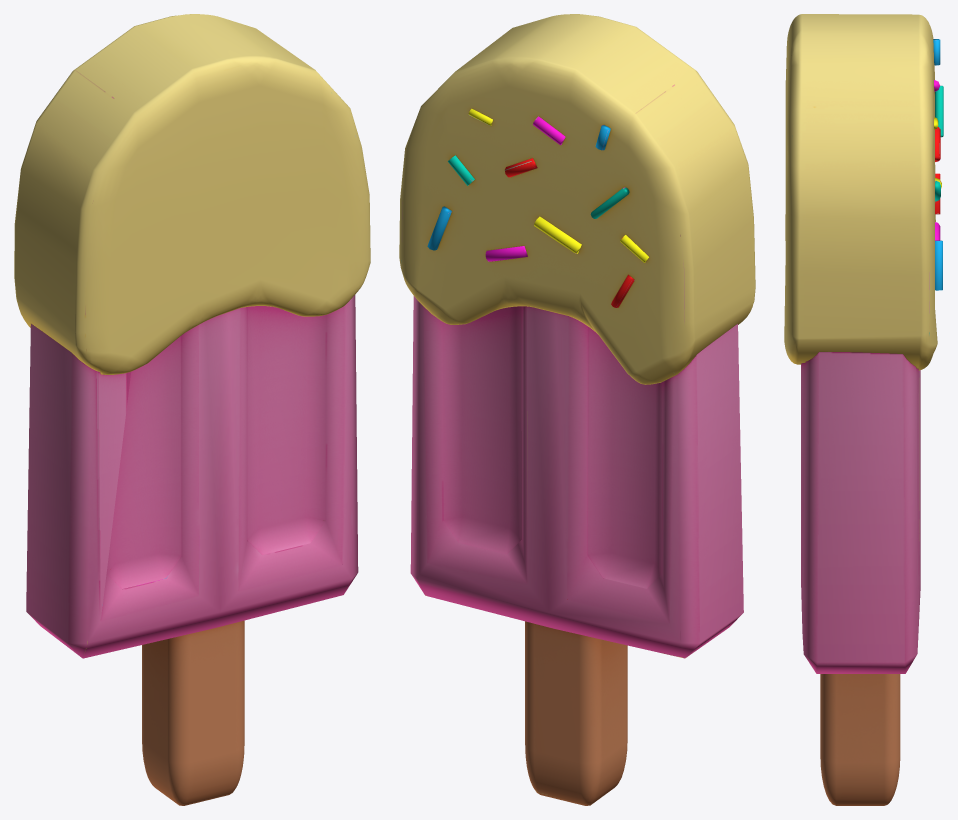
Rendered from kem.fbx.
The picture shows the model from 3 angles, left to right: view 1: azimuth 30°, elevation 25°; view 2: azimuth 150°, elevation 25°; view 3: azimuth 270°, elevation 25°; orthographic projection.
Parts seen in each view (by area): view 1: ice_cream; view 2: ice_cream; view 3: ice_cream.
Boxes of the visible parts, <box> form: ice_cream: <box>14,14,370,805</box>; ice_cream: <box>399,14,755,805</box>; ice_cream: <box>784,14,943,805</box>.
Size of the model in its own units: 55.4 by 135 by 25.42.
1 material, 1 textured.
